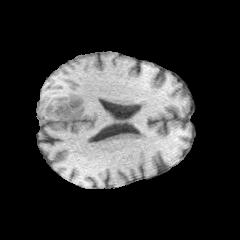glioma: (38, 93, 85, 121)
